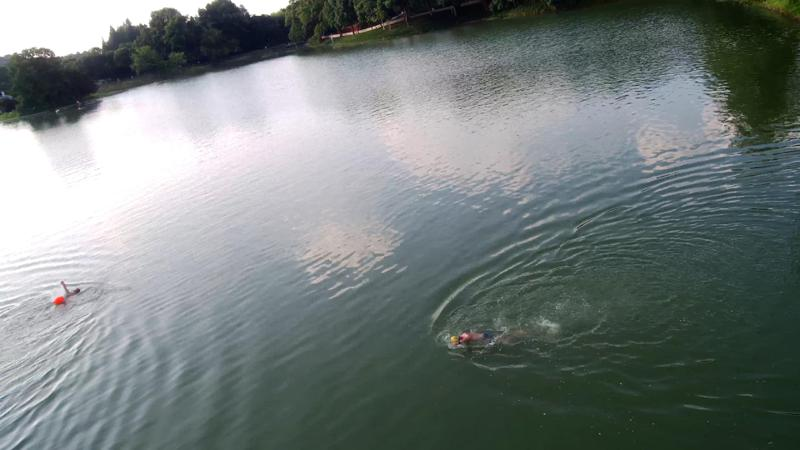swimmers: (447, 327, 511, 350), (50, 280, 80, 311)
